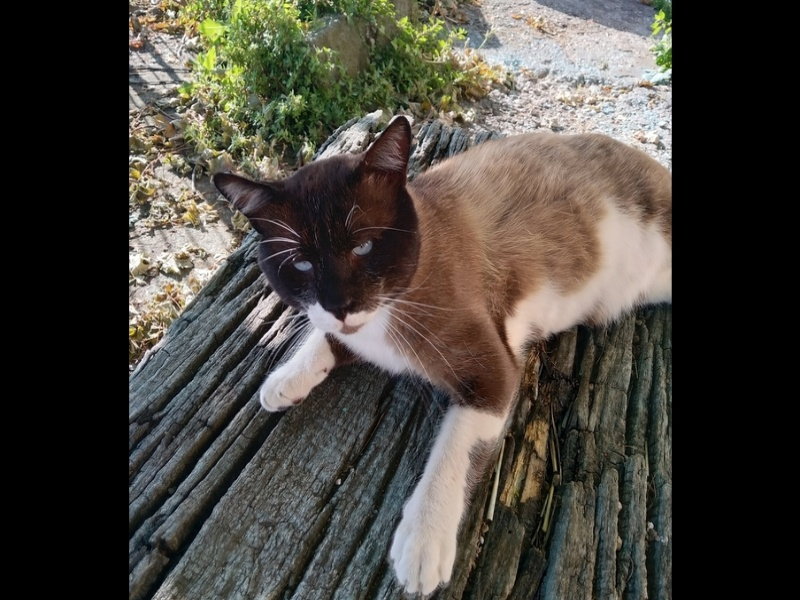cat: (207, 114, 659, 593)
